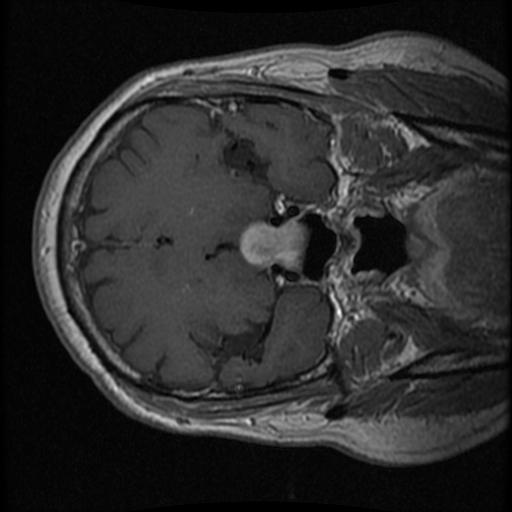pituitary tumour: (238, 219, 306, 268)
